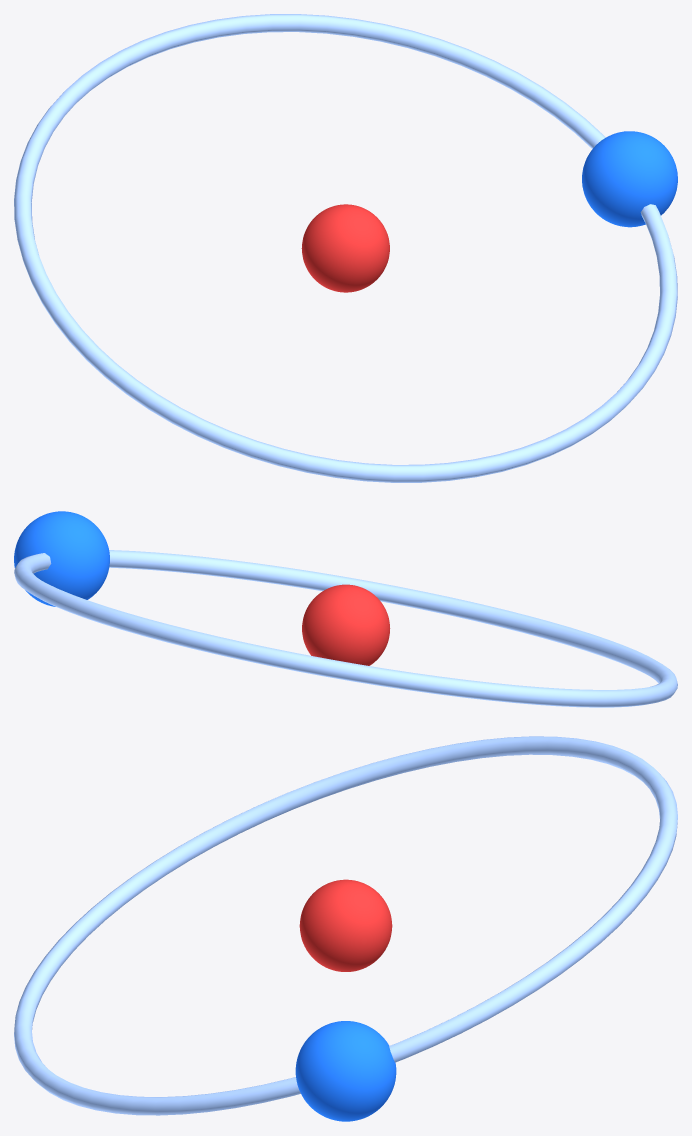
3 renders of one model, top to bottom at view 1: azimuth 30°, elevation 25°; view 2: azimuth 150°, elevation 25°; view 3: azimuth 270°, elevation 25°, orthographic. The views are drawn at different scales.
Parts seen in each view (by area): view 1: ring, el, pr; view 2: ring, el, pr; view 3: ring, el, pr.
Boxes of the visible parts, x1=… form: ring: x1=14, y1=14, x2=677, y2=482; el: x1=582, y1=131, x2=677, y2=227; pr: x1=301, y1=204, x2=389, y2=292; ring: x1=14, y1=550, x2=677, y2=707; el: x1=14, y1=511, x2=109, y2=606; pr: x1=302, y1=584, x2=390, y2=665; ring: x1=14, y1=736, x2=677, y2=1115; el: x1=295, y1=1021, x2=396, y2=1121; pr: x1=299, y1=879, x2=392, y2=971.
Bounding box in the file's own units: 0.1261 × 0.0428 × 0.112.
